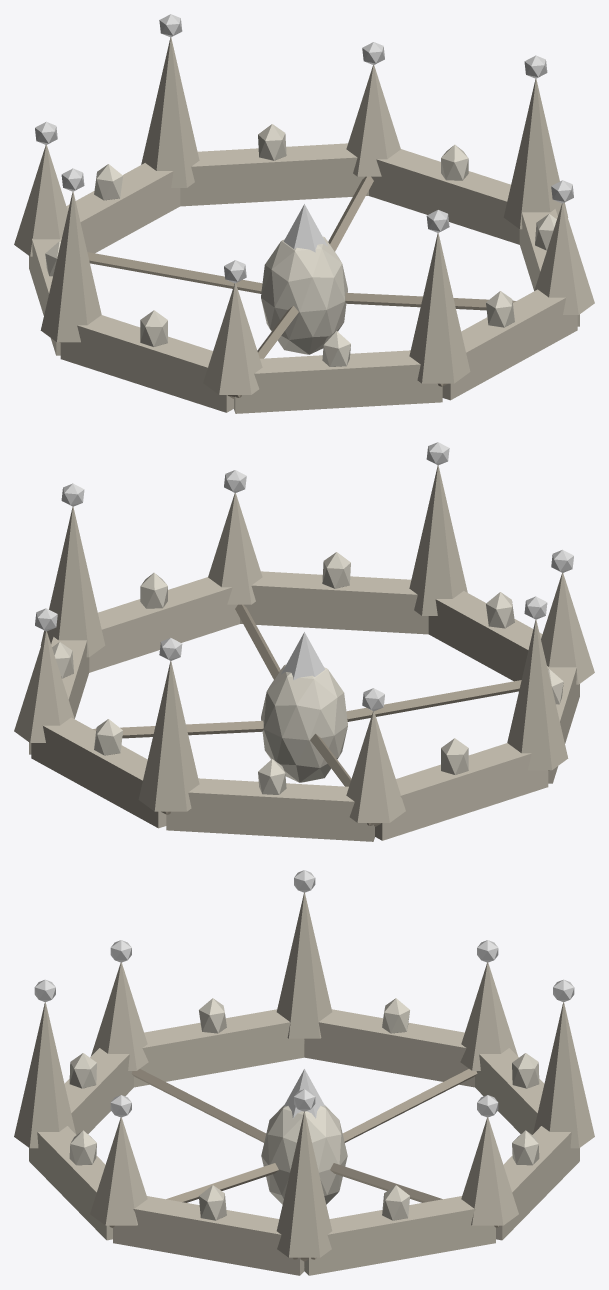
File: fountain_tier_crest.fbx
3 renders of one model, top to bottom at view 1: azimuth 30°, elevation 25°; view 2: azimuth 150°, elevation 25°; view 3: azimuth 270°, elevation 25°, orthographic. The views are drawn at different scales.
Parts seen in each view (by area): view 1: fountain_tier_crest; view 2: fountain_tier_crest; view 3: fountain_tier_crest.
Boxes of the visible parts, x1=… form: fountain_tier_crest: x1=14, y1=14, x2=594, y2=413; fountain_tier_crest: x1=14, y1=442, x2=594, y2=841; fountain_tier_crest: x1=14, y1=870, x2=594, y2=1275.
Bounding box in the file's own units: 13.7 × 6.2 × 13.9.
